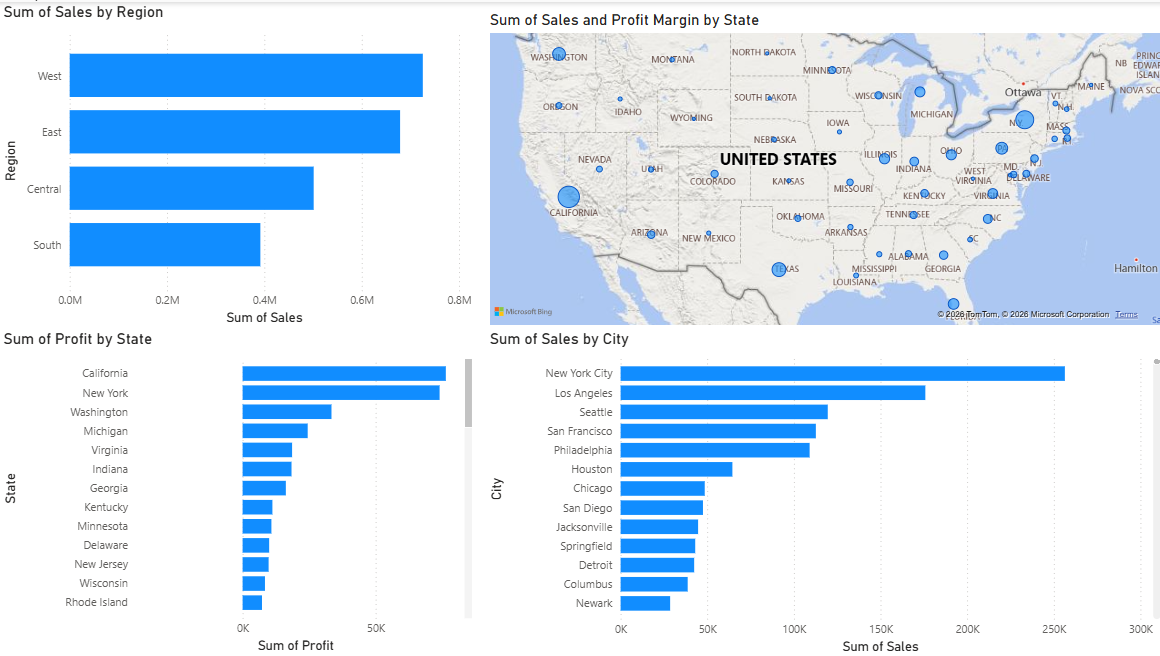

What the dashboard file says about the page in this screenshot:
{"tool":"powerbi","page":{"name":"Geographic intelligence","canvas":[1280,720],"ordinal":2},"visuals":[{"type":"clusteredBarChart","fields":{"Category":["SampleSuperstore.Region"],"Y":["Sum(SampleSuperstore.Sales)"]},"box":[0,0,524.3,360],"z":0},{"type":"clusteredBarChart","fields":{"Y":["Sum(SampleSuperstore.Profit)"],"Category":["SampleSuperstore.State"]},"box":[0,360,524.3,360],"z":1000},{"type":"clusteredBarChart","fields":{"Y":["Sum(SampleSuperstore.Sales)"],"Category":["SampleSuperstore.City"]},"box":[533.8,359.5,746.5,360.9],"z":2000},{"type":"map","fields":{"Category":["SampleSuperstore.State"],"Size":["Sum(SampleSuperstore.Sales)"]},"box":[533.8,9.6,746.5,349.9],"z":3000}]}

Visuals, with their boxes in screenshot pixels (x1, y1, x2, y2), scaled from the page's 1280x720 canvas onto the 1160x656 screenshot:
clusteredBarChart - SampleSuperstore.Region x Sum(SampleSuperstore.Sales): <region>0, 0, 475, 328</region>
clusteredBarChart - Sum(SampleSuperstore.Profit) x SampleSuperstore.State: <region>0, 328, 475, 655</region>
clusteredBarChart - Sum(SampleSuperstore.Sales) x SampleSuperstore.City: <region>484, 328, 1159, 655</region>
map - SampleSuperstore.State x Sum(SampleSuperstore.Sales): <region>484, 9, 1159, 328</region>
